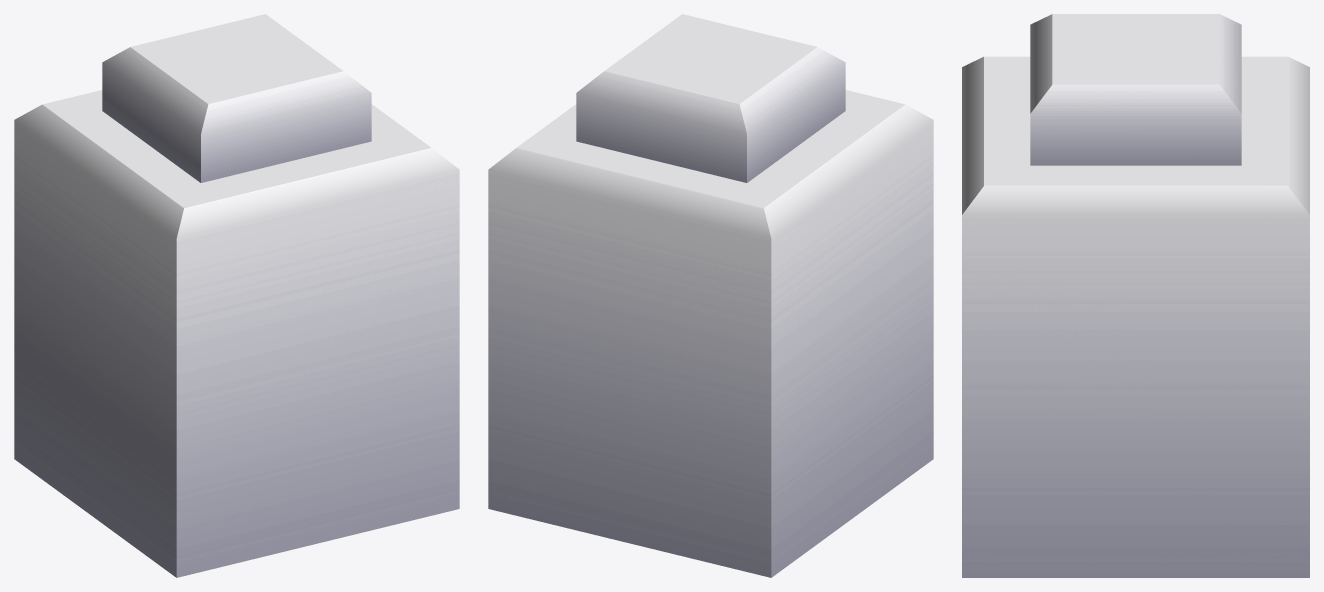
The model's file is brick-kit--square-hq-brick-1x1.glb.
3 renders of one model, left to right at view 1: azimuth 30°, elevation 25°; view 2: azimuth 150°, elevation 25°; view 3: azimuth 270°, elevation 25°, orthographic. The views are drawn at different scales.
Parts seen in each view (by area): view 1: square-hq-brick-1x1; view 2: square-hq-brick-1x1; view 3: square-hq-brick-1x1.
Boxes of the visible parts, <box> form: square-hq-brick-1x1: <box>14,14,459,577</box>; square-hq-brick-1x1: <box>488,14,933,577</box>; square-hq-brick-1x1: <box>962,14,1309,577</box>.
Size of the model in its own units: 0.0795 by 0.114 by 0.079.
Materials: 1 (1 with a texture image).
